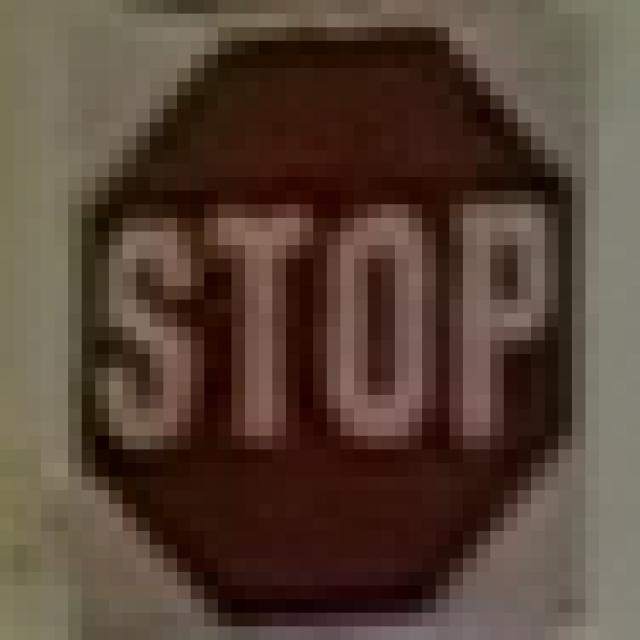mandatorystop_sign: (68, 14, 572, 612)
